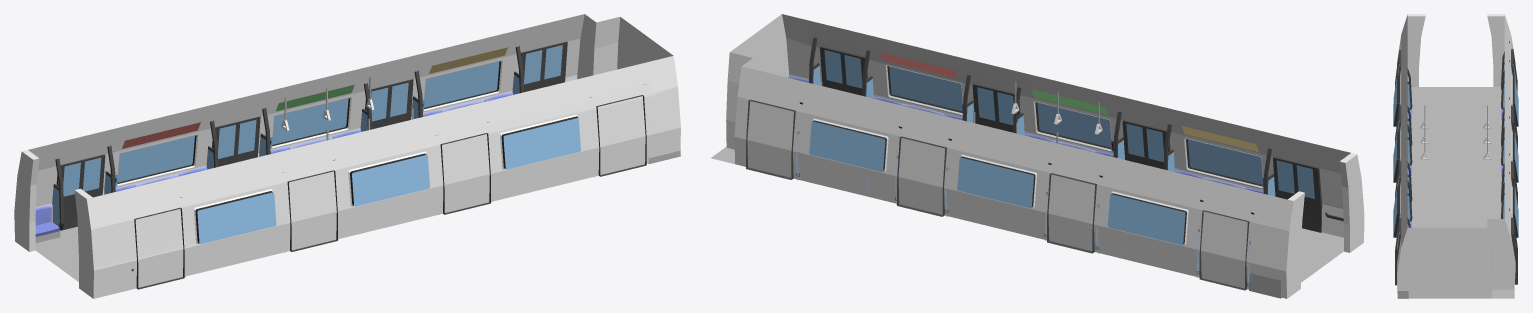
Rendered from Train Cabin 1.fbx.
3 renders of one model, left to right at view 1: azimuth 30°, elevation 25°; view 2: azimuth 150°, elevation 25°; view 3: azimuth 270°, elevation 25°, orthographic. The views are drawn at different scales.
Visible parts, largest first — view 1: Train_cabin, Train_cabin_floor, pCube3082, pCube3047, pCube3072, pCube3035, pPlane878, pPlane895, pPlane899, pCube5774, pPlane887, pPlane880 (+10 smaller); view 2: Train_cabin, Train_cabin_floor, pCube3025, pCube3079, pCube3075, pCube3058, pPlane904, pCube5773, pPlane883, pPlane890, pCube3035, pCube3072 (+10 smaller); view 3: Train_cabin, Train_cabin_floor, pCube3047, pCube3079, pCube3072, pCube3035, pCube3082, pCube3075, pCube3025, pCube3058, pCube3113, pCube3116 (+4 smaller).
Part boxes in pixels (x1,y1,x2,y2): Train_cabin: (14, 14, 680, 298); Train_cabin_floor: (35, 155, 681, 281); pCube3082: (56, 154, 105, 230); pCube3047: (519, 41, 567, 92); pCube3072: (212, 116, 260, 166); pCube3035: (365, 79, 413, 129); pPlane878: (122, 122, 200, 148); pPlane895: (429, 47, 507, 73); pPlane899: (276, 85, 354, 111); pCube5774: (35, 205, 59, 236); pPlane887: (523, 50, 542, 84); pPlane880: (390, 82, 408, 116); Train_cabin: (726, 14, 1364, 298); Train_cabin_floor: (711, 146, 1343, 282); pCube3025: (1273, 157, 1322, 232); pCube3079: (820, 46, 867, 95); pCube3075: (1122, 120, 1170, 169); pCube3058: (972, 83, 1020, 132); pPlane904: (880, 52, 957, 78); pCube5773: (1249, 273, 1281, 298); pPlane883: (1181, 126, 1258, 151); pPlane890: (1031, 89, 1108, 115); pCube3035: (897, 136, 946, 216); pCube3072: (1047, 173, 1096, 253); Train_cabin: (1393, 14, 1518, 298); Train_cabin_floor: (1398, 87, 1514, 298); pCube3047: (1511, 217, 1517, 284); pCube3079: (1395, 218, 1401, 285); pCube3072: (1511, 105, 1517, 150); pCube3035: (1511, 161, 1517, 205); pCube3082: (1511, 49, 1517, 91); pCube3075: (1395, 105, 1401, 143); pCube3025: (1395, 50, 1401, 87); pCube3058: (1395, 161, 1401, 198); pCube3113: (1407, 124, 1412, 165); pCube3116: (1407, 180, 1412, 221).
Bounding box in the file's own units: 29.52 × 4.59 × 7.3.
Materials: 1 (1 with a texture image).
